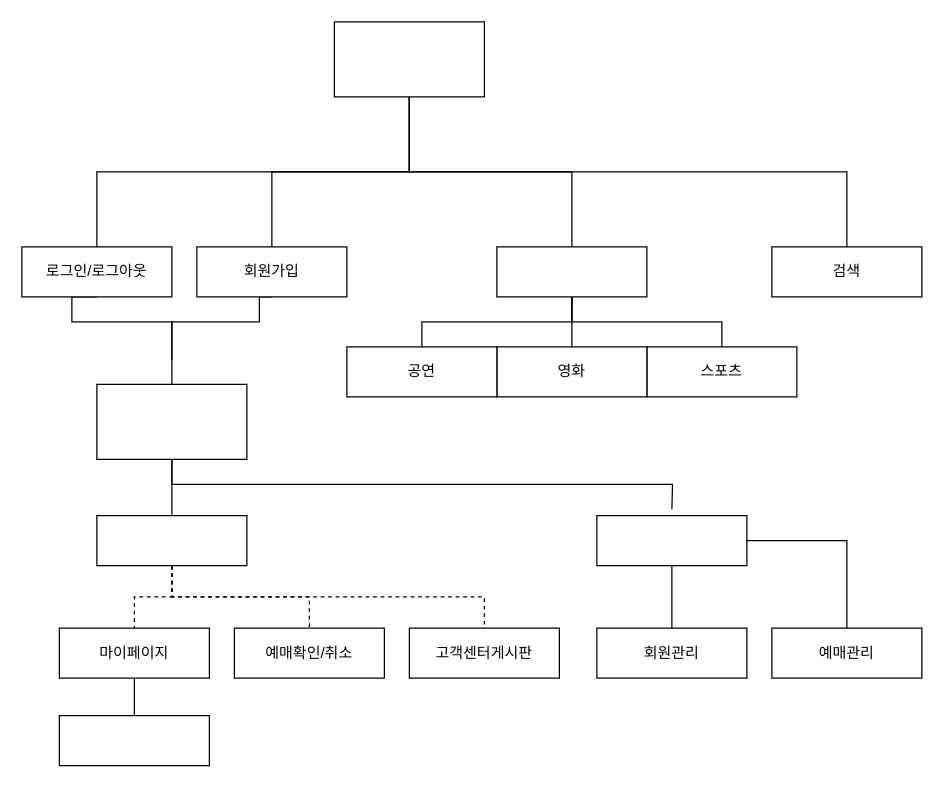
This 944x788 diagram has some shape labels left out. Here are the shapes that lost their labels. From the top down, the centre of each, then its label:
At point 408,59: "메인페이지".
At point 571,271: "카테고리".
At point 171,421: "유효성 검사".
At point 171,540: "사용자".
At point 671,540: "관리자".
At point 133,740: "회원정보확인/탈퇴".
